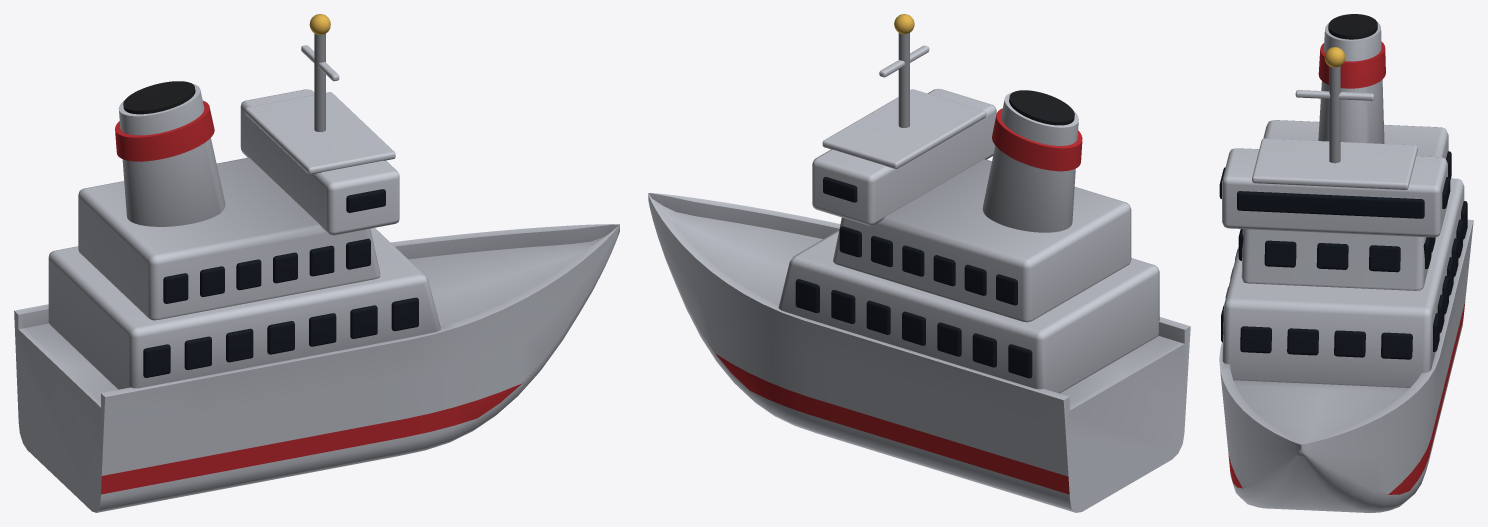
File: piece-6.glb
3 views of the same model, side by side, from view 1: azimuth 30°, elevation 25°; view 2: azimuth 150°, elevation 25°; view 3: azimuth 270°, elevation 25° (orthographic). The views are drawn at different scales.
Parts seen in each view (by area): view 1: Hull; view 2: Hull; view 3: Hull.
Part boxes in pixels (left/top/right/bottom): Hull: left=14, top=14, right=619, bottom=512; Hull: left=648, top=14, right=1190, bottom=512; Hull: left=1219, top=14, right=1473, bottom=512.
Bounding box in the file's own units: 2.33 × 1.72 × 0.9711.
